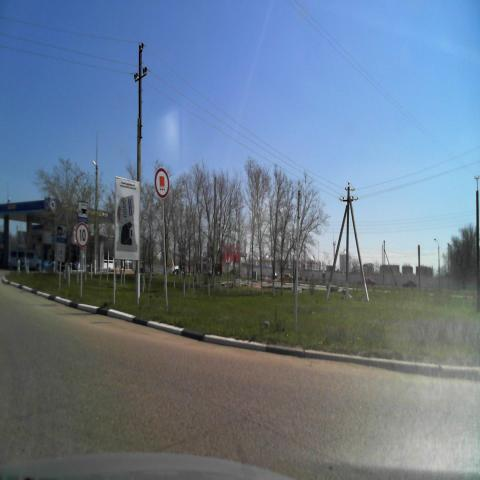3_32: (154, 168, 170, 201)
